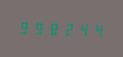eight: (46, 19, 59, 36)
four: (88, 20, 101, 38), (74, 20, 87, 37)
nine: (31, 18, 44, 36), (17, 18, 30, 35)
two: (60, 19, 73, 37)
